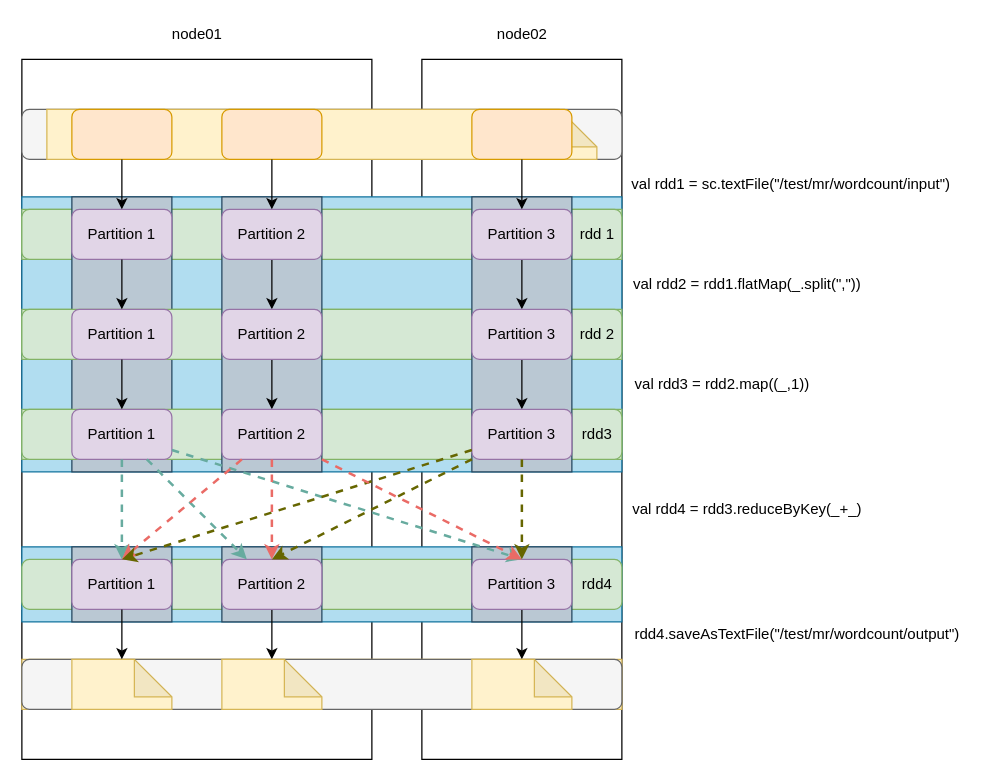
Image size: 994x781. Some labels were removed from this diagram. Each missing label, with the centre of its shape:
Block 1: point 121,133
Block 2: point 271,133
Block 3: point 521,133
part-00000: point 121,683
part-00001: point 271,683
part-00002: point 521,683
